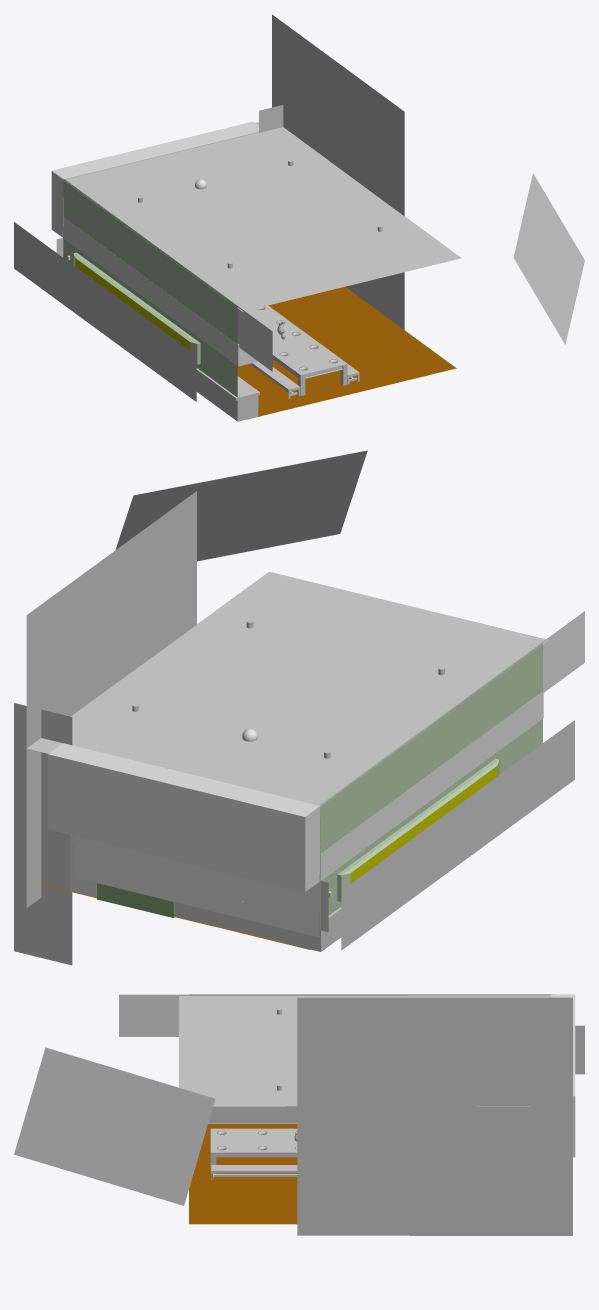
Rendered from kitchen.dae.
The picture shows the model from 3 angles, top to bottom: view 1: azimuth 30°, elevation 25°; view 2: azimuth 150°, elevation 25°; view 3: azimuth 270°, elevation 25°; orthographic projection. The views are drawn at different scales.
Visible parts, largest first — view 1: Plane_010, Plane_011, Plane, Plane_001, Plane_015, Plane_003, Cube_009, Cube_008, Plane_004, Plane_014, Cube, Plane_002 (+3 smaller); view 2: Plane_010, Plane_011, Cube_008, Plane_001, Plane_003, Plane_015, Plane_007, Plane_012, Cube_009, Plane_014, Plane_002, Cube_011 (+2 smaller); view 3: Plane_011, Plane_003, Plane_010, Plane, Plane_014, Plane_004, Cube, Plane_005, Cube_008, Plane_015.
Boxes of the visible parts, <box> form: Plane_010: <box>53,122,461,311</box>; Plane_011: <box>272,14,404,329</box>; Plane: <box>237,287,456,419</box>; Plane_001: <box>63,179,237,397</box>; Plane_015: <box>14,222,196,401</box>; Plane_003: <box>513,173,584,344</box>; Cube_009: <box>63,217,257,366</box>; Cube_008: <box>51,121,258,237</box>; Plane_004: <box>245,305,347,395</box>; Plane_014: <box>64,179,272,371</box>; Cube: <box>196,372,258,421</box>; Plane_002: <box>75,258,190,350</box>; Plane_010: <box>27,571,548,816</box>; Plane_011: <box>26,491,196,907</box>; Cube_008: <box>48,743,319,891</box>; Plane_001: <box>320,643,542,928</box>; Plane_003: <box>115,450,367,561</box>; Plane_015: <box>341,720,574,950</box>; Plane_007: <box>74,818,320,937</box>; Plane_012: <box>14,703,72,965</box>; Cube_009: <box>320,690,543,880</box>; Plane_014: <box>317,611,584,806</box>; Plane_002: <box>350,766,497,883</box>; Cube_011: <box>96,883,174,917</box>; Plane_011: <box>297,997,572,1235</box>; Plane_003: <box>14,1047,215,1205</box>; Plane_010: <box>179,995,550,1106</box>; Plane: <box>189,1124,297,1224</box>; Plane_014: <box>119,994,554,1036</box>; Plane_004: <box>210,1128,297,1174</box>; Cube: <box>208,1106,297,1123</box>; Plane_005: <box>211,1165,297,1180</box>; Cube_008: <box>550,994,575,1157</box>; Plane_015: <box>575,1025,584,1074</box>.
Bounding box in the file's own units: 36.61 × 46.21 × 25.63.
